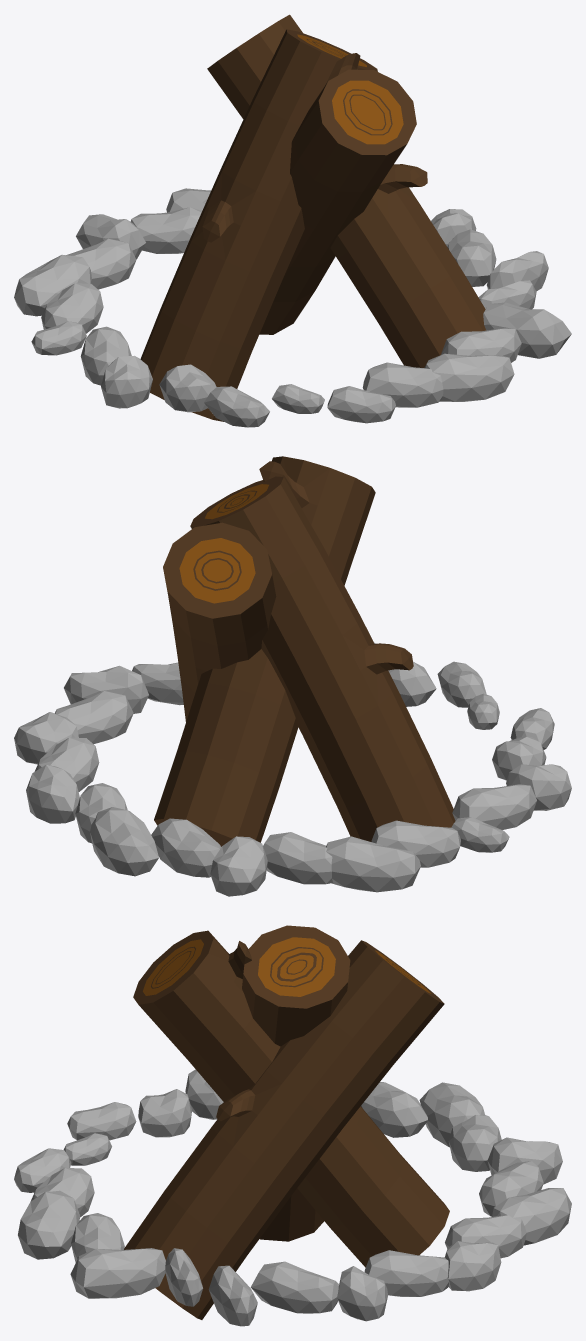
File: Fireplace.fbx
The picture shows the model from 3 angles, top to bottom: view 1: azimuth 30°, elevation 25°; view 2: azimuth 150°, elevation 25°; view 3: azimuth 270°, elevation 25°; orthographic projection. The views are drawn at different scales.
Visible parts, largest first — view 1: Cylinder.003; view 2: Cylinder.003; view 3: Cylinder.003.
Boxes of the visible parts, x1,y1,x2,y2 form: Cylinder.003: (14,14,571,427); Cylinder.003: (14,456,571,896); Cylinder.003: (14,925,571,1326).
Size of the model in its own units: 183 by 130 by 182.
